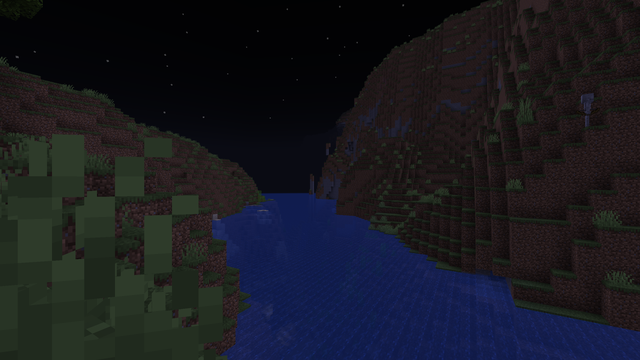squelettes: (578, 92, 594, 127)
